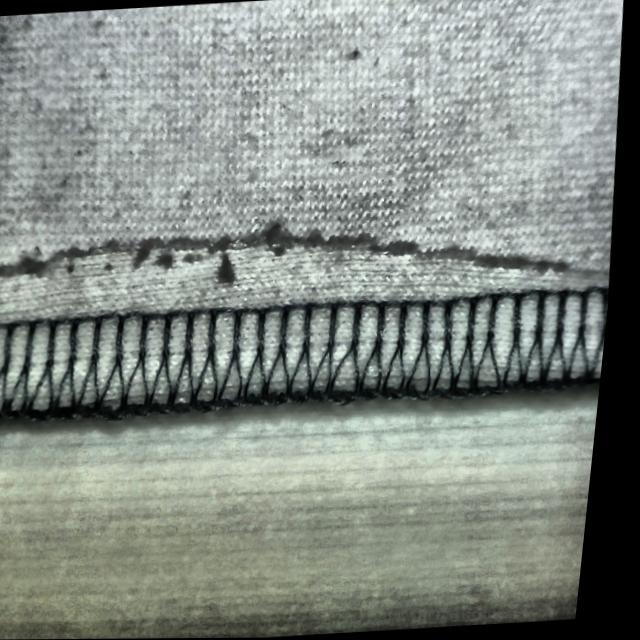seam: (0, 186, 624, 431)
